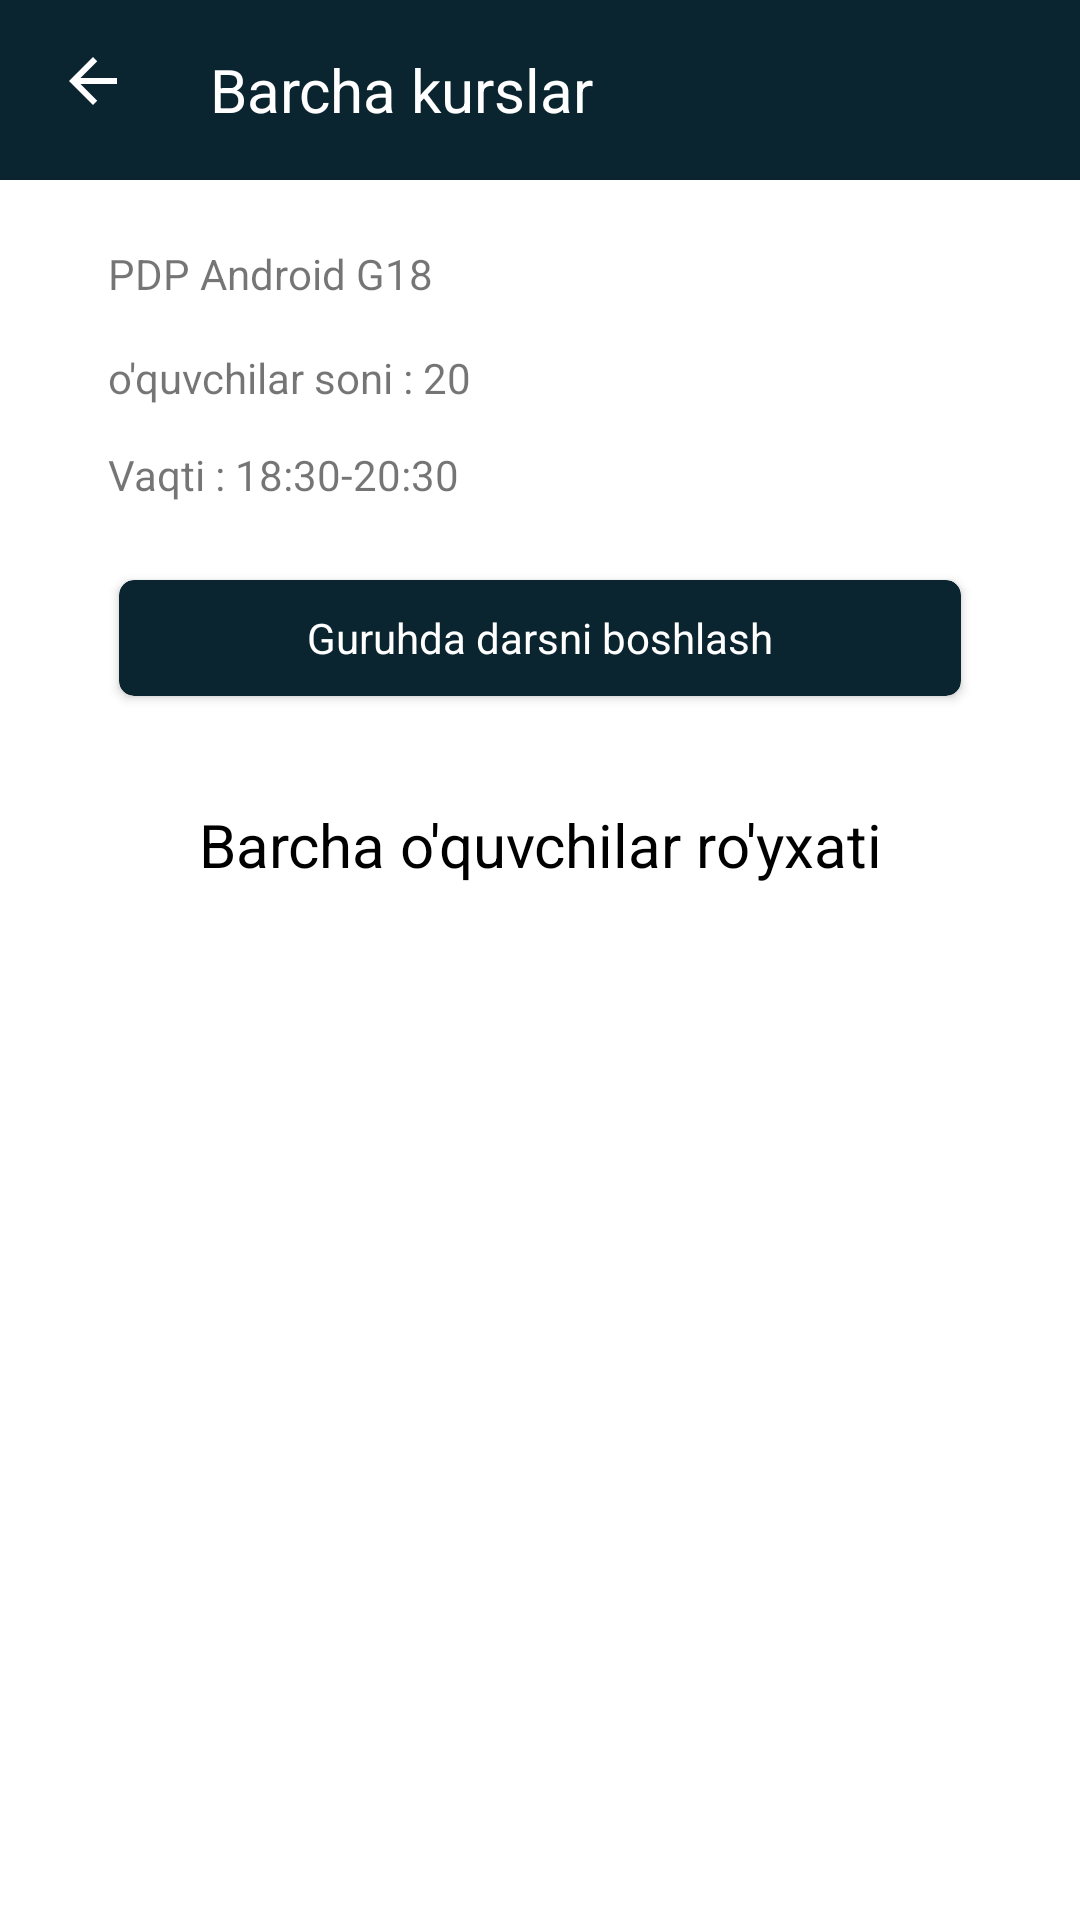

Where to tap for icons on this 1080x1920 app screen, as (x,y):
arrow back: (93,81)
